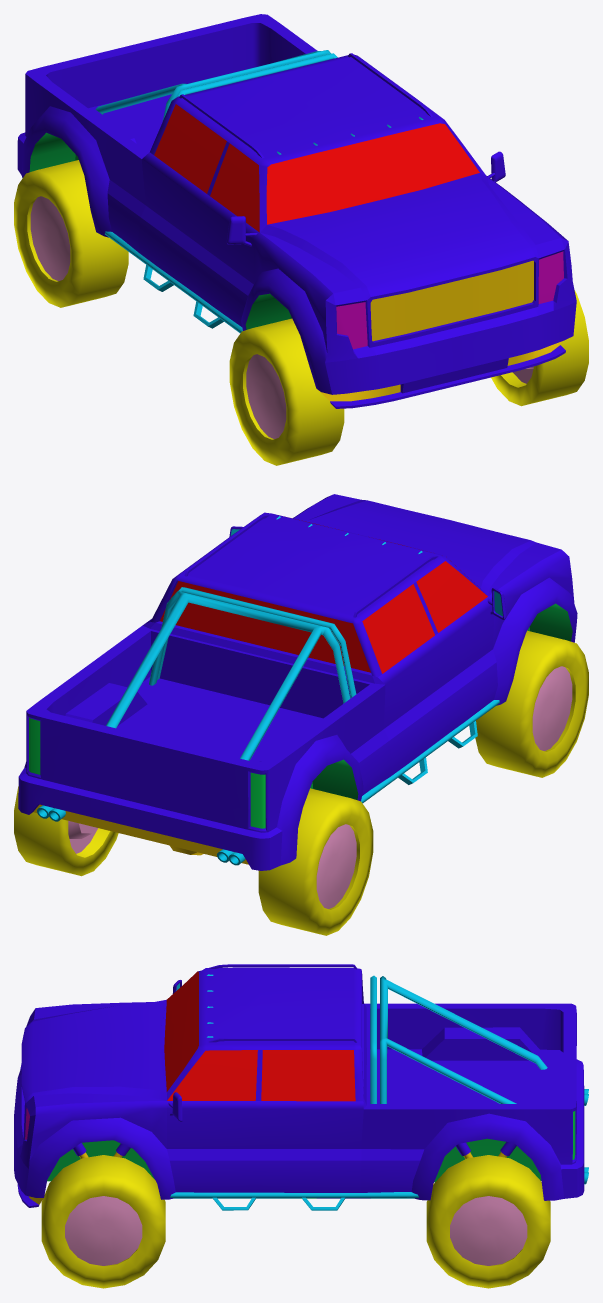
The model's file is 05_VenomSandstorm_ColorCoded.fbx.
3 renders of one model, top to bottom at view 1: azimuth 30°, elevation 25°; view 2: azimuth 150°, elevation 25°; view 3: azimuth 270°, elevation 25°, orthographic. The views are drawn at different scales.
Parts seen in each view (by area): view 1: Body, tireFrontR, tireBackR, tireFrontL; view 2: Body, tireBackR, tireFrontR, tireBackL; view 3: Body, tireFrontL, tireBackL.
Part boxes in pixels (<box>): Body: <box>17,14,576,408</box>; tireFrontR: <box>229,318,344,465</box>; tireBackR: <box>14,160,128,307</box>; tireFrontL: <box>491,290,588,406</box>; Body: <box>18,494,577,870</box>; tireBackR: <box>258,788,373,935</box>; tireFrontR: <box>475,630,588,777</box>; tireBackL: <box>14,786,118,876</box>; Body: <box>14,964,588,1210</box>; tireFrontL: <box>41,1155,165,1288</box>; tireBackL: <box>426,1155,550,1288</box>.
Bounding box in the file's own units: 66.17 × 124 × 53.12.
